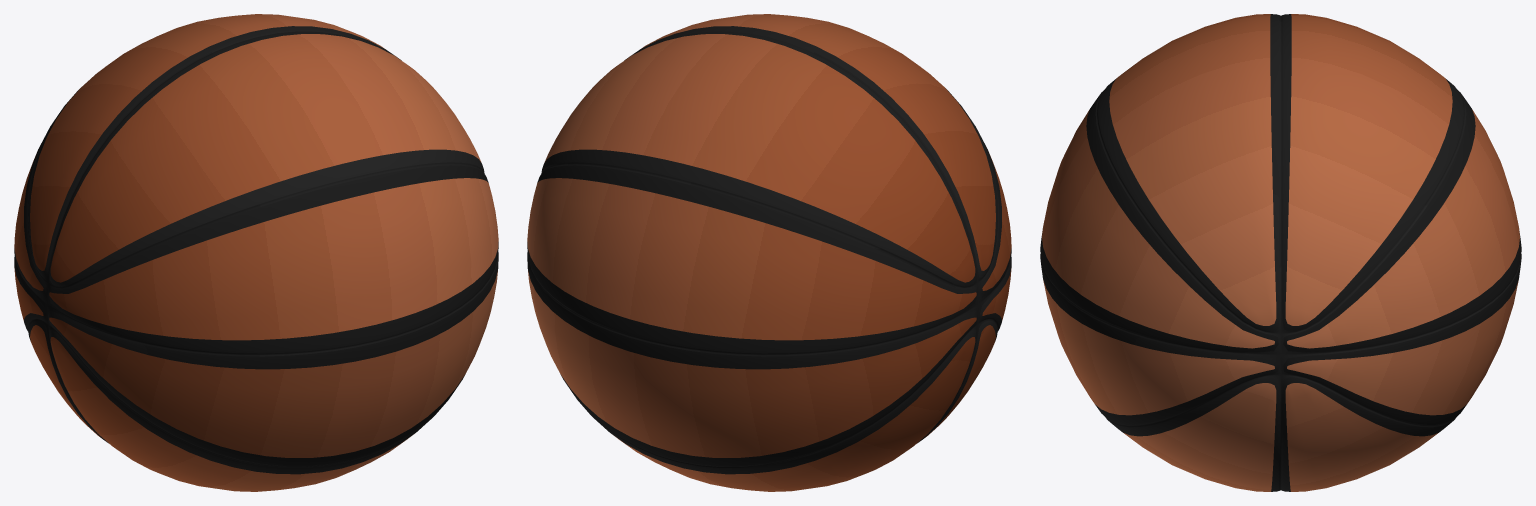
The model's file is ball.fbx.
3 renders of one model, left to right at view 1: azimuth 30°, elevation 25°; view 2: azimuth 150°, elevation 25°; view 3: azimuth 270°, elevation 25°, orthographic.
Parts seen in each view (by area): view 1: ball; view 2: ball; view 3: ball.
Boxes of the visible parts, box(x1,y1,x2,y2) form: ball: box(14, 14, 498, 491); ball: box(527, 14, 1011, 491); ball: box(1040, 14, 1521, 491).
Size of the model in its own units: 93.11 by 91.86 by 92.66.
